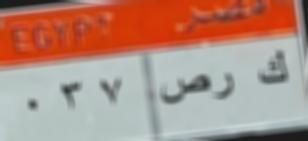0: (26, 91, 41, 120)
3: (57, 75, 85, 114)
7: (96, 72, 125, 112)
kaaf: (255, 50, 288, 93)
raa: (213, 65, 240, 103)
saad: (159, 69, 208, 105)
